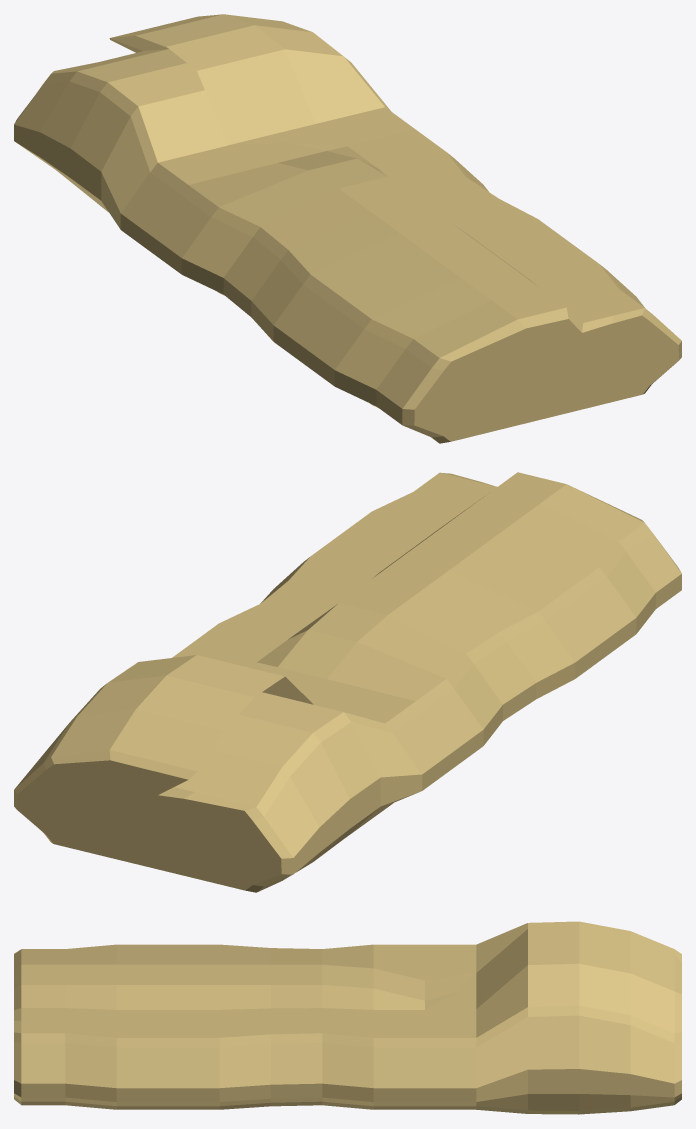
File: tallow_transport_a.glb
The picture shows the model from 3 angles, top to bottom: view 1: azimuth 30°, elevation 25°; view 2: azimuth 150°, elevation 25°; view 3: azimuth 270°, elevation 25°; orthographic projection. The views are drawn at different scales.
Visible parts, largest first — view 1: tallow_transport_a; view 2: tallow_transport_a; view 3: tallow_transport_a.
Part boxes in pixels (x1,y1,x2,y2): tallow_transport_a: (14,14,681,443); tallow_transport_a: (14,472,681,892); tallow_transport_a: (14,921,681,1114).
Size of the model in its own units: 3.9 by 1.86 by 8.9.
